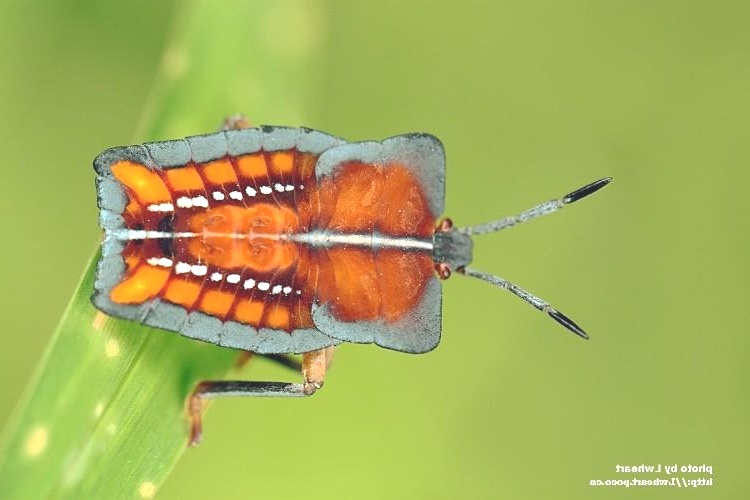Stink_Bug: (69, 120, 533, 362)
